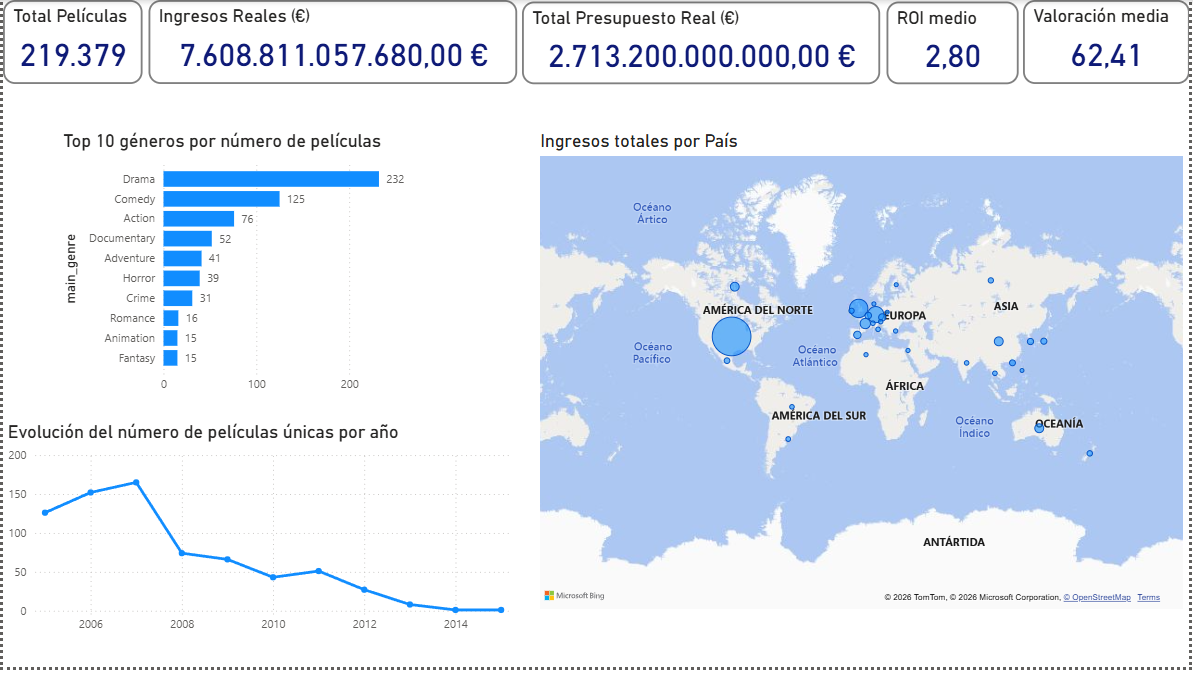

The page's visual inventory and layout, read from the dashboard file:
{"tool":"powerbi","page":{"name":"Resumen general","canvas":[1280,720],"ordinal":0},"visuals":[{"type":"card","title":"Total Películas","fields":{"Values":["movies_final.Total Películas"]},"box":[0,0,150.6,90.7],"z":0},{"type":"card","title":"Total Presupuesto Real (€)","fields":{"Values":["movies_final.Presupuesto Real"]},"box":[560.3,1.6,387,89.1],"z":1000},{"type":"card","title":"ROI medio","fields":{"Values":["movies_final.ROI Real Promedio"]},"box":[952.9,1.6,142.5,89.1],"z":2000},{"type":"card","title":"Valoración media","fields":{"Values":["movies_final.Valoración Media"]},"box":[1100.3,0,179.7,90.7],"z":3000},{"type":"card","title":"Ingresos Reales (€)","fields":{"Values":["movies_final.Ingresos Reales"]},"box":[156.3,0,398.3,90.7],"z":4000},{"type":"clusteredBarChart","title":"Top 10 géneros por número de películas","fields":{"Category":["movies_final.main_genre"],"Y":["Count(movies_final.title)"]},"box":[59.9,140.9,391.9,291.5],"z":5000},{"type":"lineChart","title":"Evolución del número de películas únicas por año","fields":{"Category":["movies_final.release_year"],"Y":["Count(movies_final.title)"]},"box":[0,455,555.4,236.4],"z":6000},{"type":"map","title":"Ingresos totales por País","fields":{"Category":["movies_final.main_country"],"Size":["movies_final.Ingresos Reales"]},"box":[574.8,140.9,704.4,521.4],"z":7000}]}

Visuals, with their boxes in screenshot pixels (x1, y1, x2, y2), scaled from the page's 1280x720 canvas onto the 1193x673 screenshot:
"Total Películas" card: bbox=(0, 0, 140, 85)
"Total Presupuesto Real (€)" card: bbox=(522, 1, 883, 85)
"ROI medio" card: bbox=(888, 1, 1021, 85)
"Valoración media" card: bbox=(1026, 0, 1192, 85)
"Ingresos Reales (€)" card: bbox=(146, 0, 517, 85)
"Top 10 géneros por número de películas" clusteredBarChart: bbox=(56, 132, 421, 404)
"Evolución del número de películas únicas por año" lineChart: bbox=(0, 425, 518, 646)
"Ingresos totales por País" map: bbox=(536, 132, 1192, 619)
